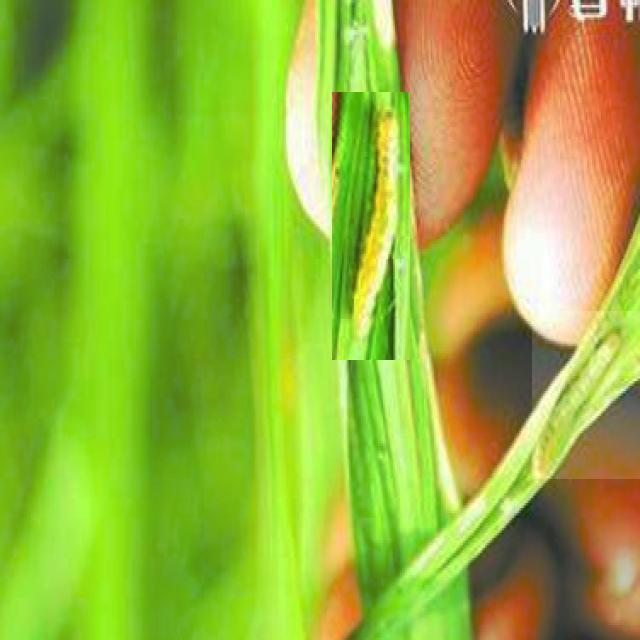leaf-folder: (333, 93, 411, 361), (532, 311, 640, 479)
